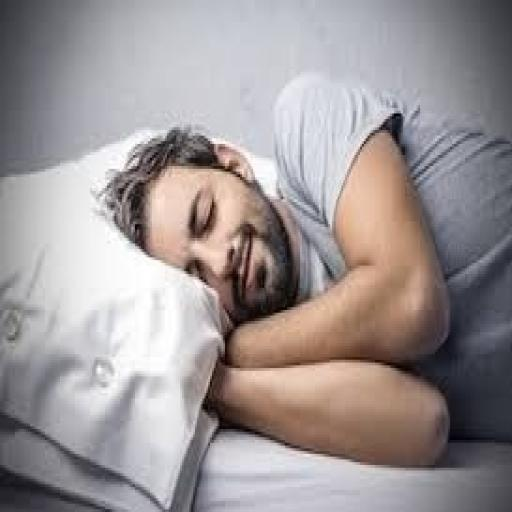sleeping: (92, 69, 510, 471)
